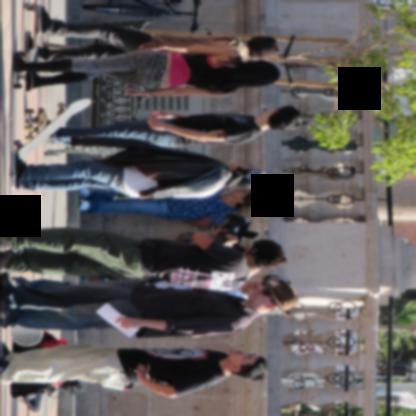backpack: (11, 330, 86, 398), (9, 382, 62, 412)
